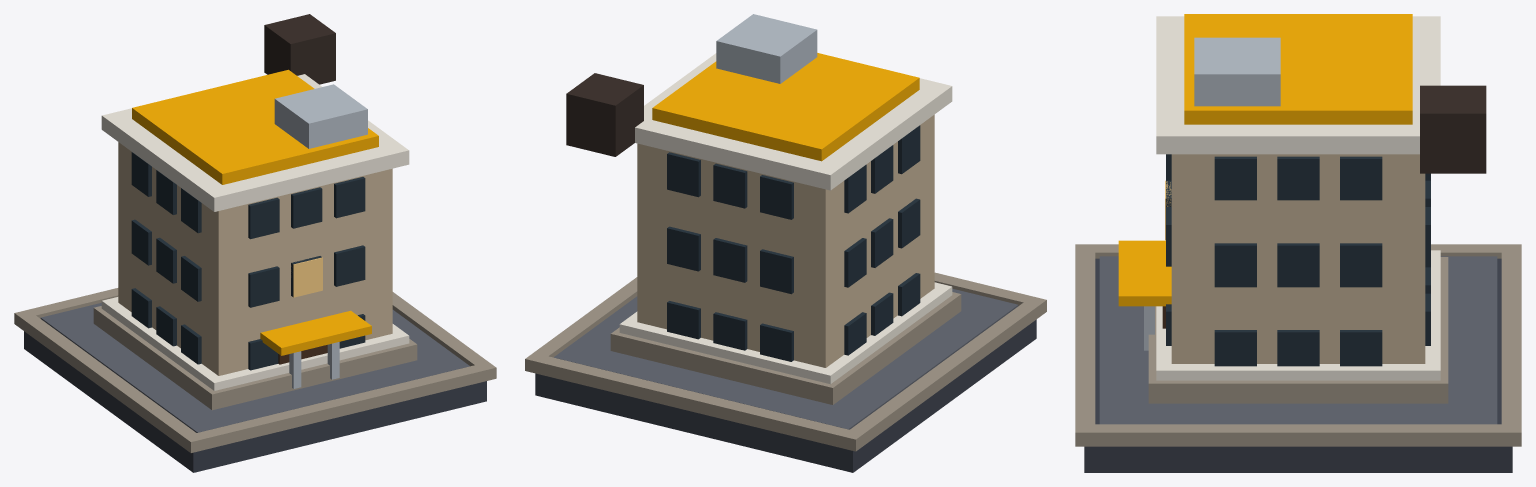
File: city.apartment_old.glb
The picture shows the model from 3 angles, left to right: view 1: azimuth 30°, elevation 25°; view 2: azimuth 150°, elevation 25°; view 3: azimuth 270°, elevation 25°; orthographic projection. The views are drawn at different scales.
Visible parts, largest first — view 1: city.apartment_old; view 2: city.apartment_old; view 3: city.apartment_old.
Boxes of the visible parts, box(x1,y1,x2,y2) form: city.apartment_old: box(14, 14, 496, 472); city.apartment_old: box(525, 14, 1046, 472); city.apartment_old: box(1075, 14, 1521, 472).
Bounding box in the file's own units: 2.02 × 1.76 × 2.02.
